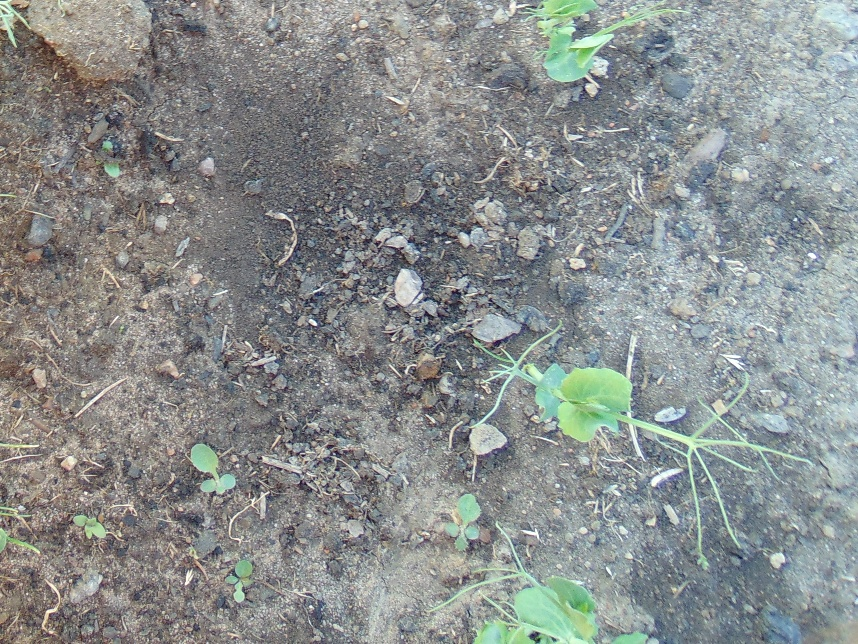crop: (474, 333, 742, 491), (475, 562, 632, 644), (529, 1, 665, 81)
weed: (190, 441, 237, 496), (445, 488, 482, 550), (223, 557, 257, 602), (73, 514, 105, 542), (102, 142, 122, 177)
